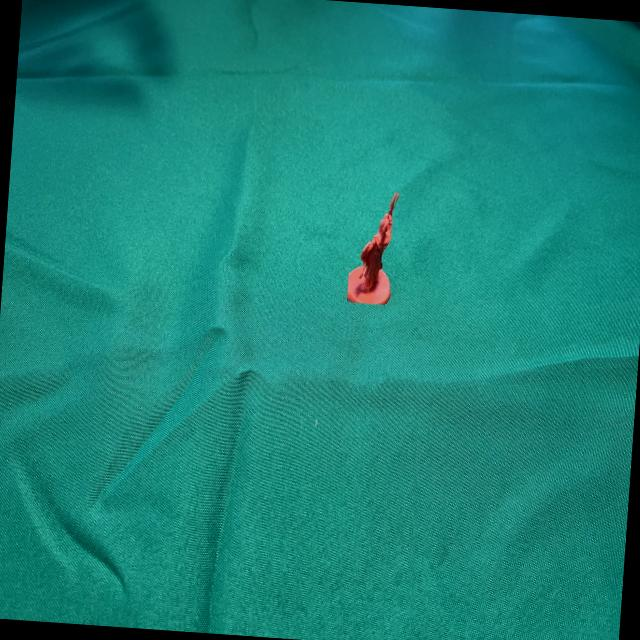amon_follower: (348, 192, 397, 304)
